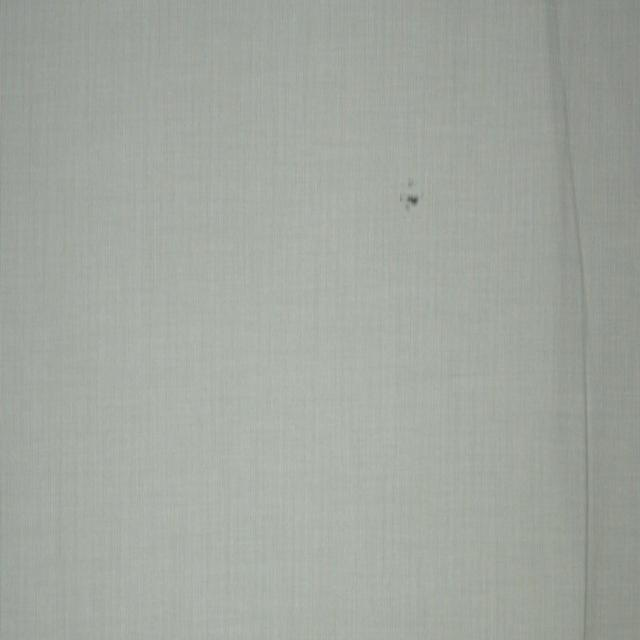dirty: (400, 177, 420, 213)
